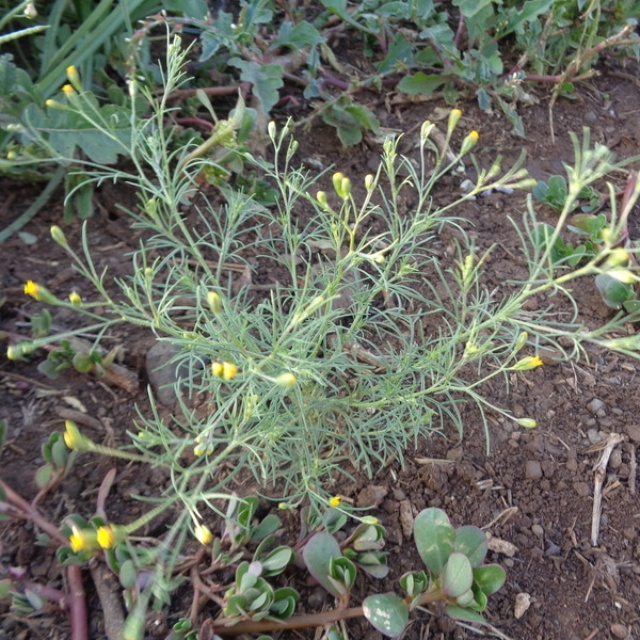obstacle: (64, 55, 446, 539)
